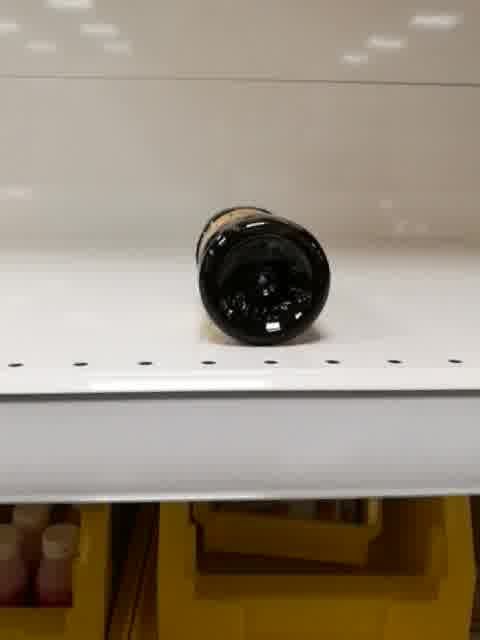cookingoil: (190, 203, 335, 350)
